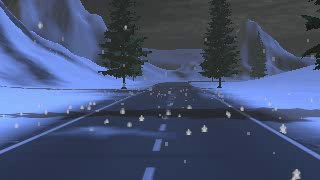Lane: (2, 81, 318, 178)
